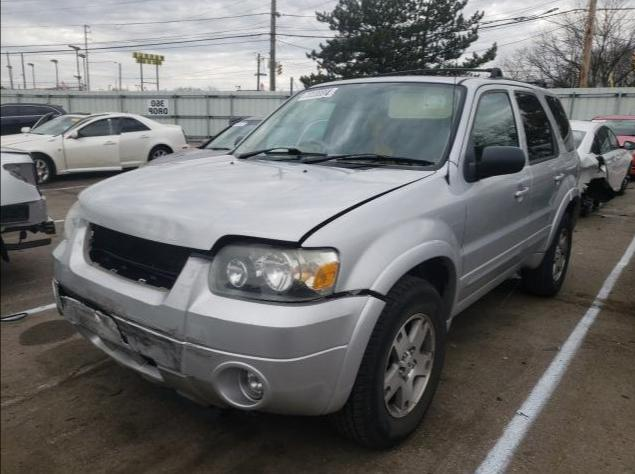Broken part: (54, 218, 383, 413), (188, 174, 436, 258), (318, 287, 386, 305)
Dent: (103, 209, 192, 244)
Missing part: (91, 227, 188, 286)
